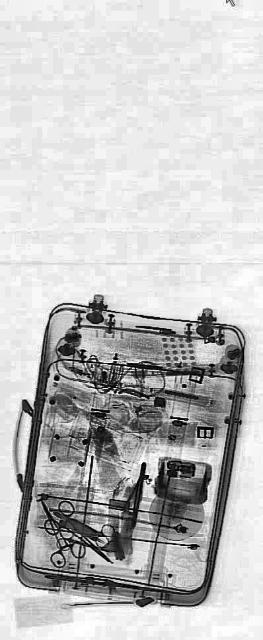Scissors: (42, 483, 118, 589), (32, 474, 86, 594), (79, 504, 115, 560), (56, 518, 92, 564)
